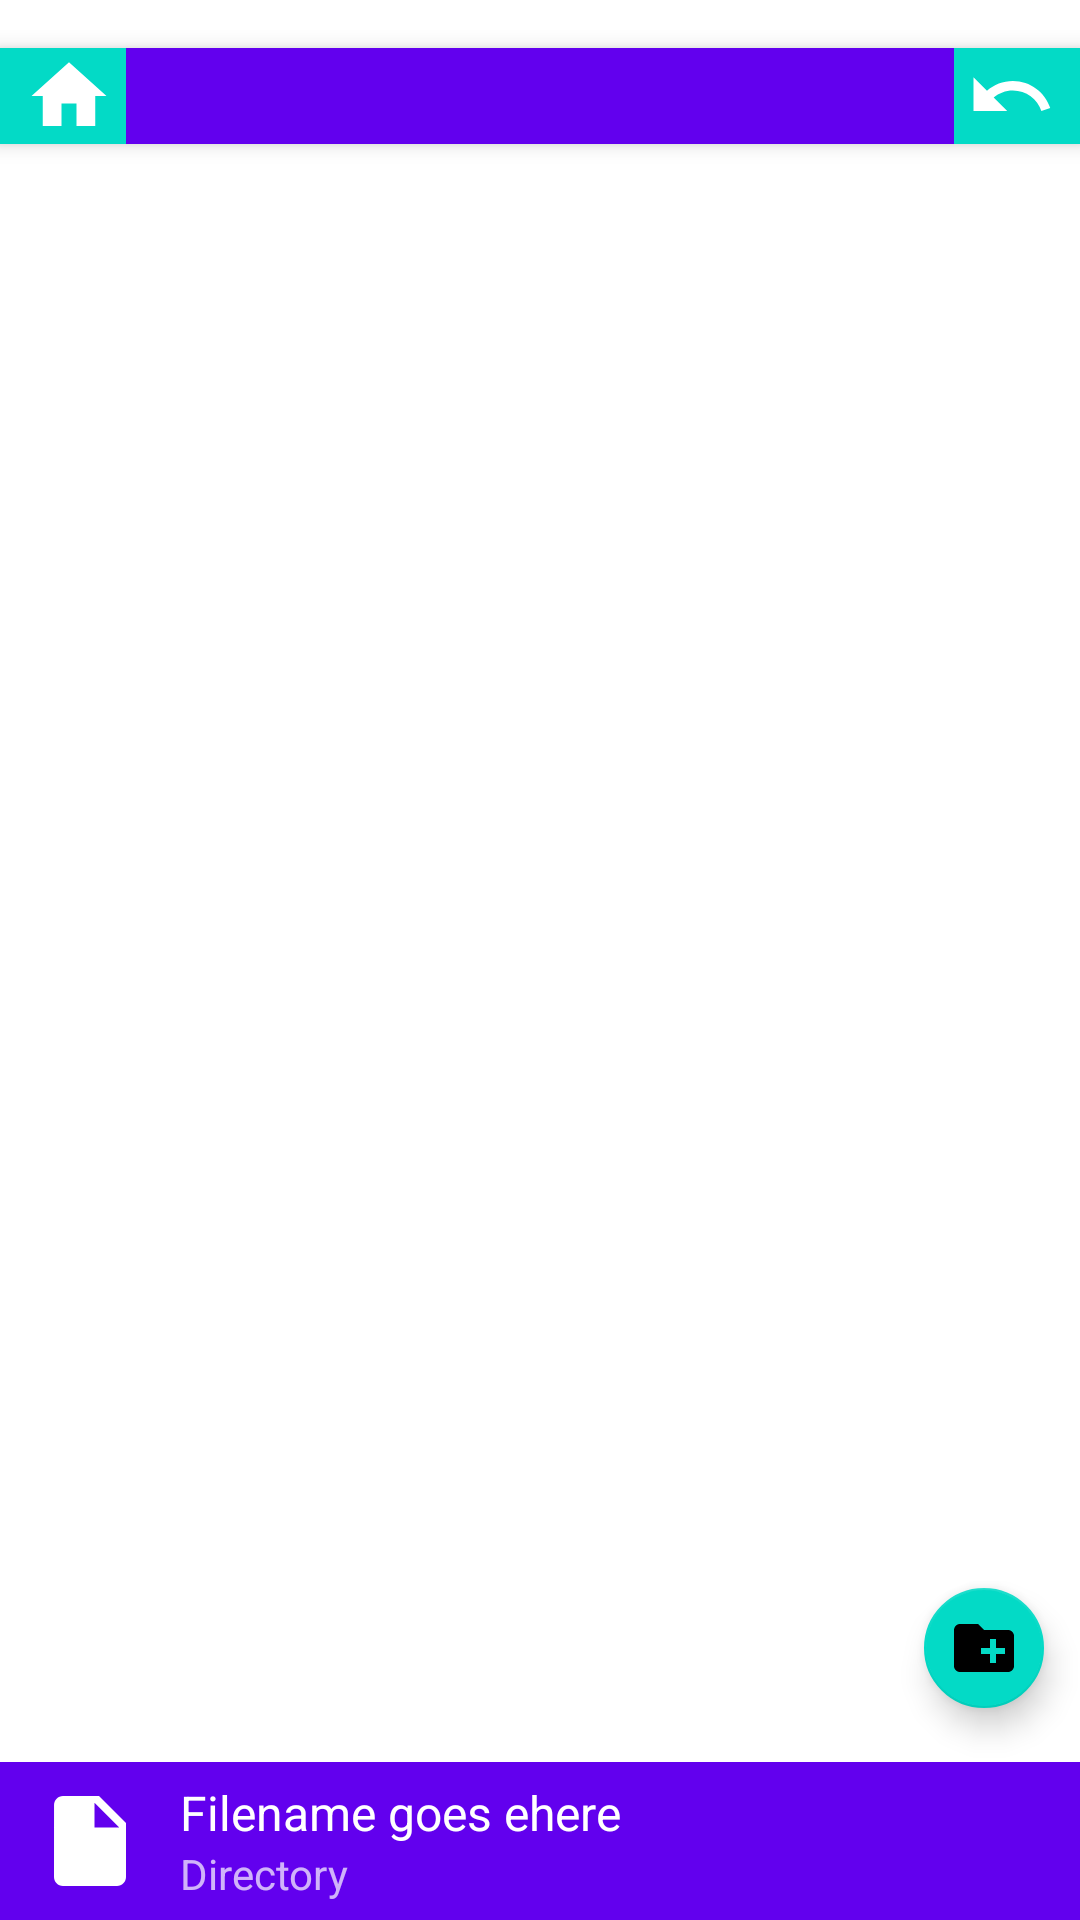

Screen size 1080x1920. Icon name, then its center in pixels as (x,y):
create folder: (985,1656)
home text: (69,96)
undo text: (1011,96)
